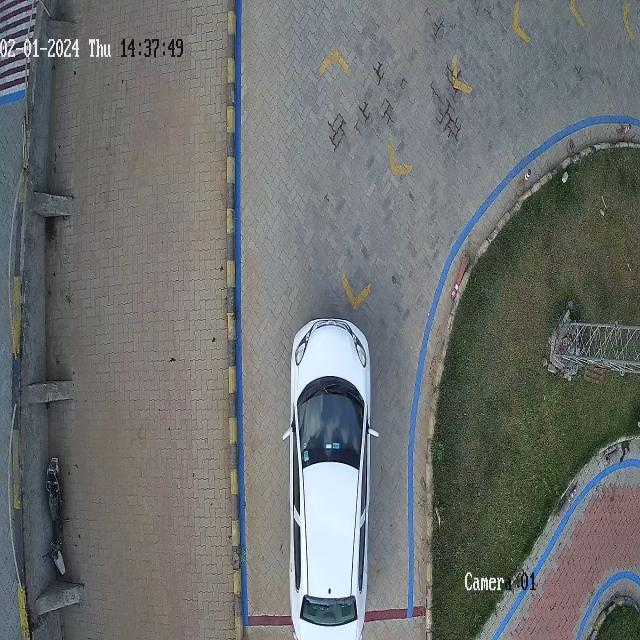car: (291, 320, 371, 638)
